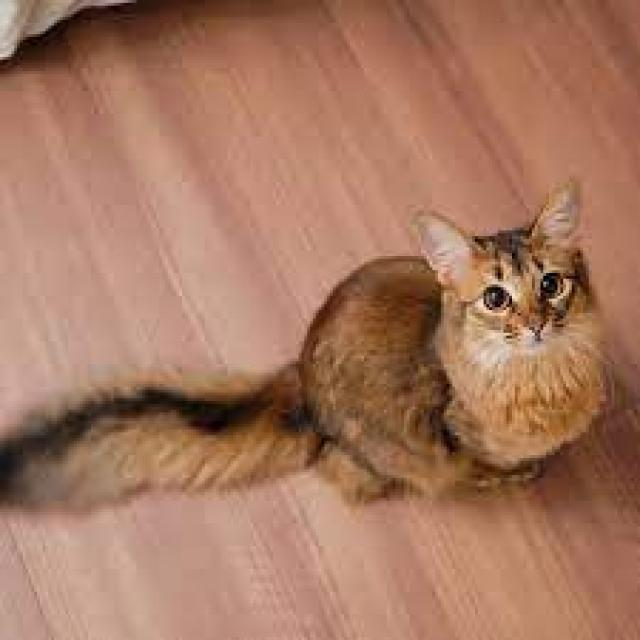Cat: (3, 170, 616, 516)
